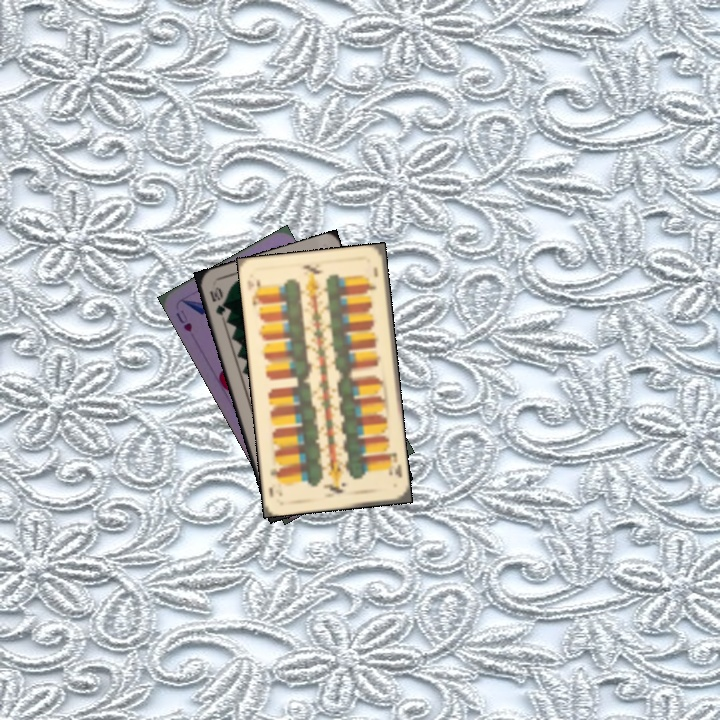E10: (382, 448, 404, 480), (248, 275, 265, 308)
G10: (206, 283, 231, 323)
HU: (172, 306, 195, 335)
